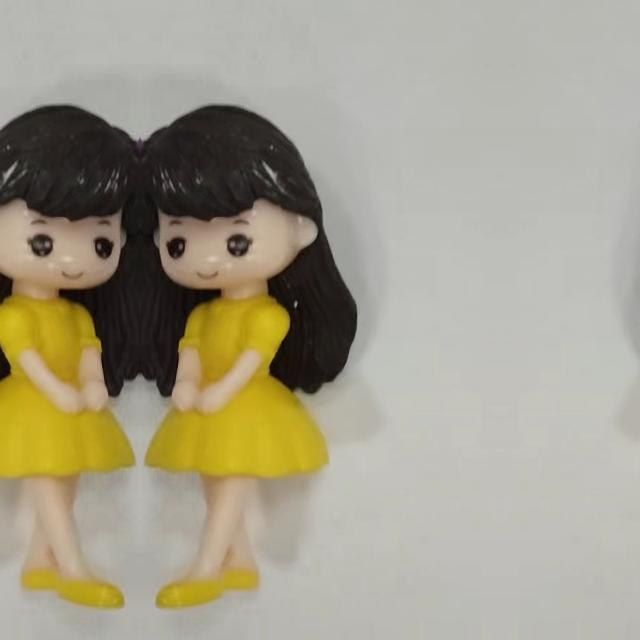woman dress: (150, 287, 344, 623), (0, 287, 130, 623)
woman head: (140, 102, 356, 328), (0, 102, 140, 328)
